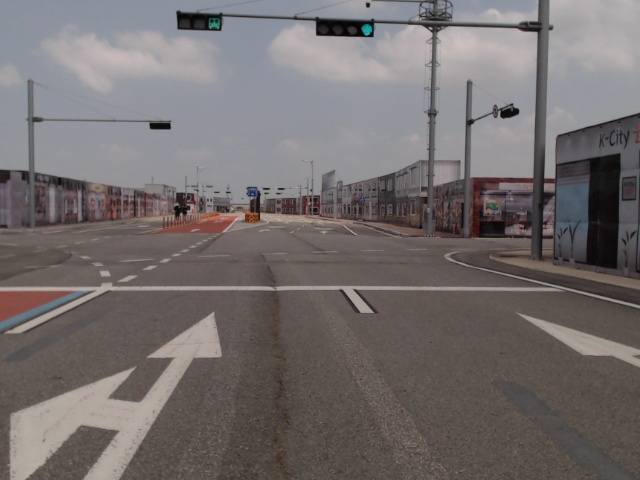straight_green_4: (316, 20, 375, 36)
